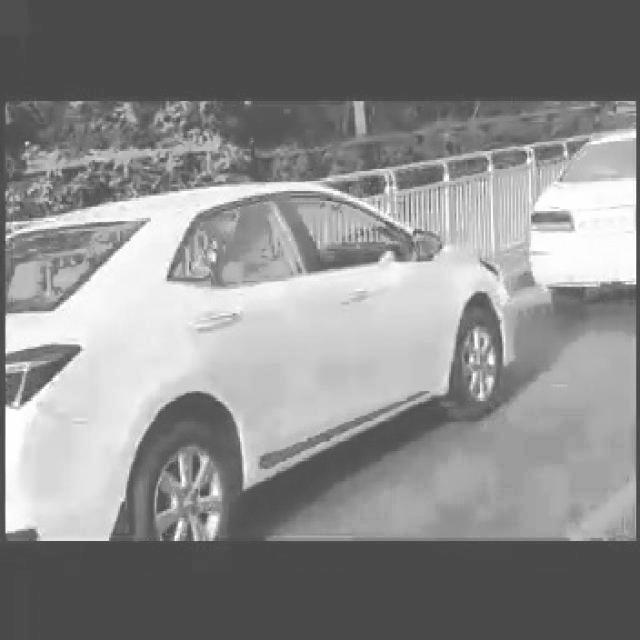Car: (14, 205, 522, 516), (532, 119, 640, 313)
